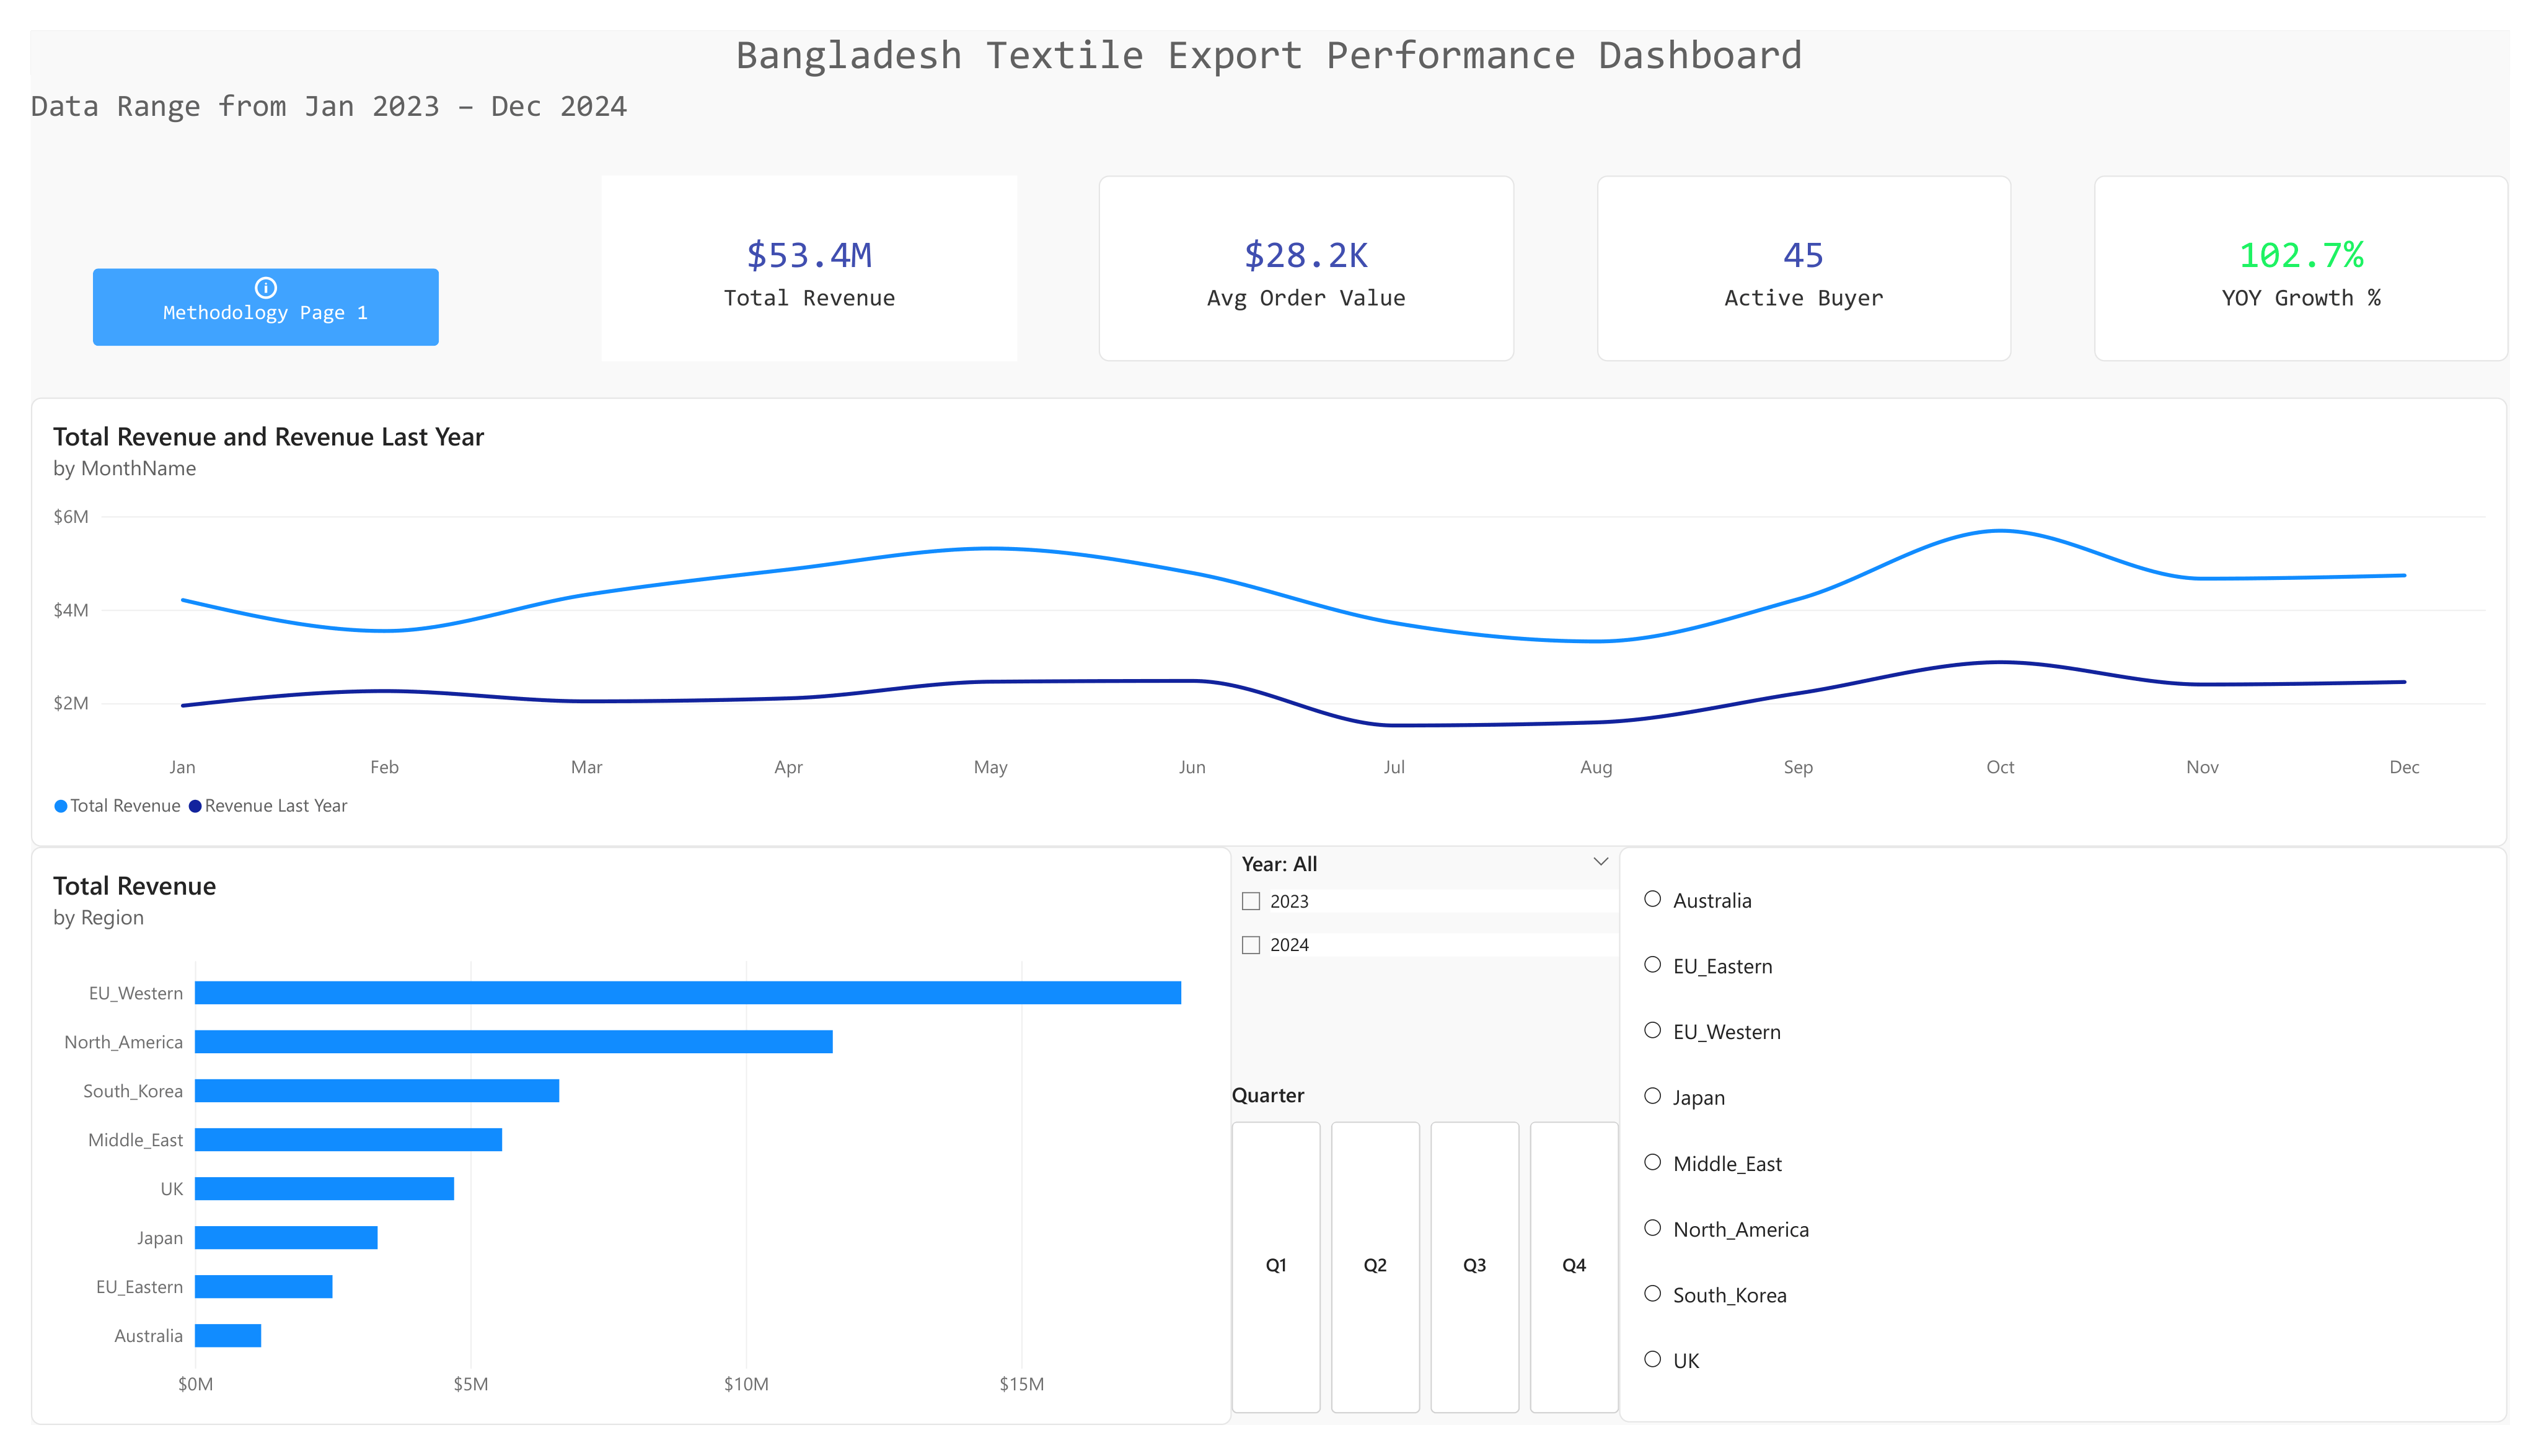

The page's visual inventory and layout, read from the dashboard file:
{"tool":"powerbi","page":{"name":"Executive Summary","canvas":[1920,1080],"ordinal":0},"visuals":[{"type":"group","id":"g1","title":"KPI Cards","box":[442,112,1478,144],"z":0},{"type":"card","fields":{"Values":["Measure Table.Total Revenue"]},"box":[442,112,321.5,144.2],"z":0,"group":"g1"},{"type":"slicer","fields":{"Values":["DateTable.Year"]},"box":[930,634.4,300.3,166.5],"z":0,"group":"g2"},{"type":"card","fields":{"Values":["Measure Table.Avg Order Value"]},"box":[827.3,112,321.5,144.2],"z":1000,"group":"g1"},{"type":"lineChart","fields":{"Category":["DateTable.MonthName"],"Y":["Measure Table.Total Revenue","Measure Table.Revenue Last Year"]},"box":[0,284,1918,348],"z":1000},{"type":"advancedSlicerVisual","fields":{"Values":["DateTable.Quarter"]},"box":[930,813,300.3,258.2],"z":1000,"group":"g2"},{"type":"card","fields":{"Values":["Measure Table.Active Buyer"]},"box":[1212.6,112,321.5,144.2],"z":2000,"group":"g1"},{"type":"barChart","fields":{"Category":["buyers.Region"],"Y":["Measure Table.Total Revenue"]},"box":[0,632,930,448],"z":2000},{"type":"listSlicer","fields":{"Values":["buyers.Region"]},"box":[1230.3,632,687.8,446.5],"z":2000,"group":"g2"},{"type":"textbox","box":[0,0,1918,112],"z":3000},{"type":"card","fields":{"Values":["Measure Table.YOY Growth %"]},"box":[1597.8,112,321.5,144.2],"z":3000,"group":"g1"},{"type":"textbox","box":[0,44,466,112],"z":4000},{"type":"group","id":"g2","title":"Slicer","box":[930,632,990,448],"z":5000},{"type":"actionButton","box":[48,184,268,60],"z":6000}]}

Visuals, with their boxes on the page's 1920x1080 design canvas (x1, y1, x2, y2). These are canvas units, not pixel positions in the 2541x1456 screenshot, which may show the page scaled, cropped or inside an application window:
"KPI Cards" group: [x1=442, y1=112, x2=1920, y2=256]
card - Measure Table.Total Revenue: [x1=442, y1=112, x2=764, y2=256]
slicer - DateTable.Year: [x1=930, y1=634, x2=1230, y2=801]
card - Measure Table.Avg Order Value: [x1=827, y1=112, x2=1149, y2=256]
lineChart - DateTable.MonthName x Measure Table.Total Revenue: [x1=0, y1=284, x2=1918, y2=632]
advancedSlicerVisual - DateTable.Quarter: [x1=930, y1=813, x2=1230, y2=1071]
card - Measure Table.Active Buyer: [x1=1213, y1=112, x2=1534, y2=256]
barChart - buyers.Region x Measure Table.Total Revenue: [x1=0, y1=632, x2=930, y2=1080]
listSlicer - buyers.Region: [x1=1230, y1=632, x2=1918, y2=1078]
textbox: [x1=0, y1=0, x2=1918, y2=112]
card - Measure Table.YOY Growth %: [x1=1598, y1=112, x2=1919, y2=256]
textbox: [x1=0, y1=44, x2=466, y2=156]
"Slicer" group: [x1=930, y1=632, x2=1920, y2=1080]
actionButton: [x1=48, y1=184, x2=316, y2=244]
